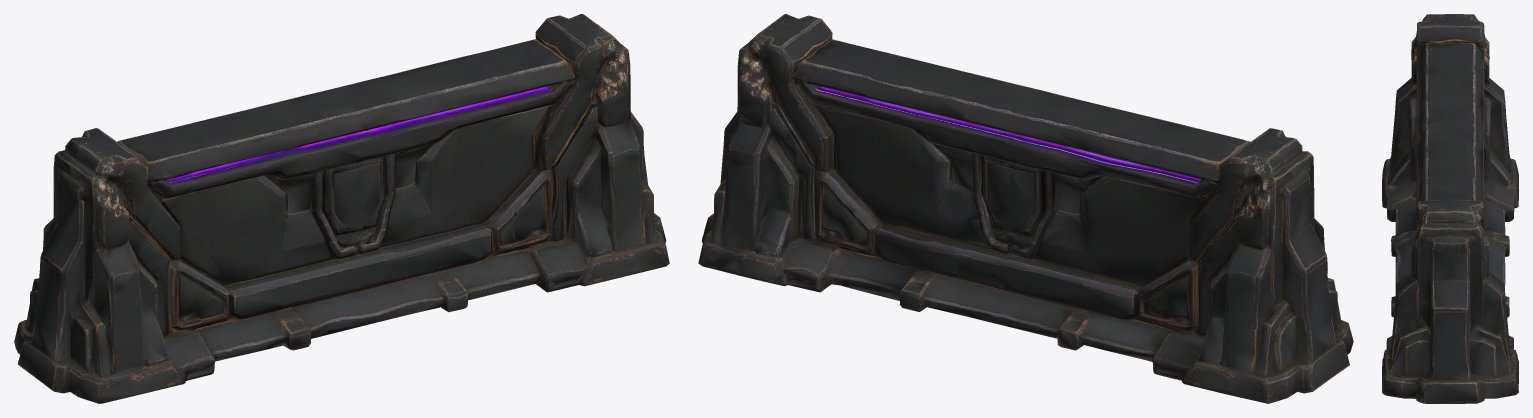
The model's file is 05_Barrier_Wall.glb.
3 views of the same model, side by side, from view 1: azimuth 30°, elevation 25°; view 2: azimuth 150°, elevation 25°; view 3: azimuth 270°, elevation 25° (orthographic). The views are drawn at different scales.
Size of the model in its own units: 1.9 by 0.6515 by 0.4628.
Materials: 1 (1 with a texture image).
